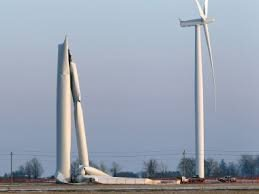faulty: (49, 30, 92, 145)
